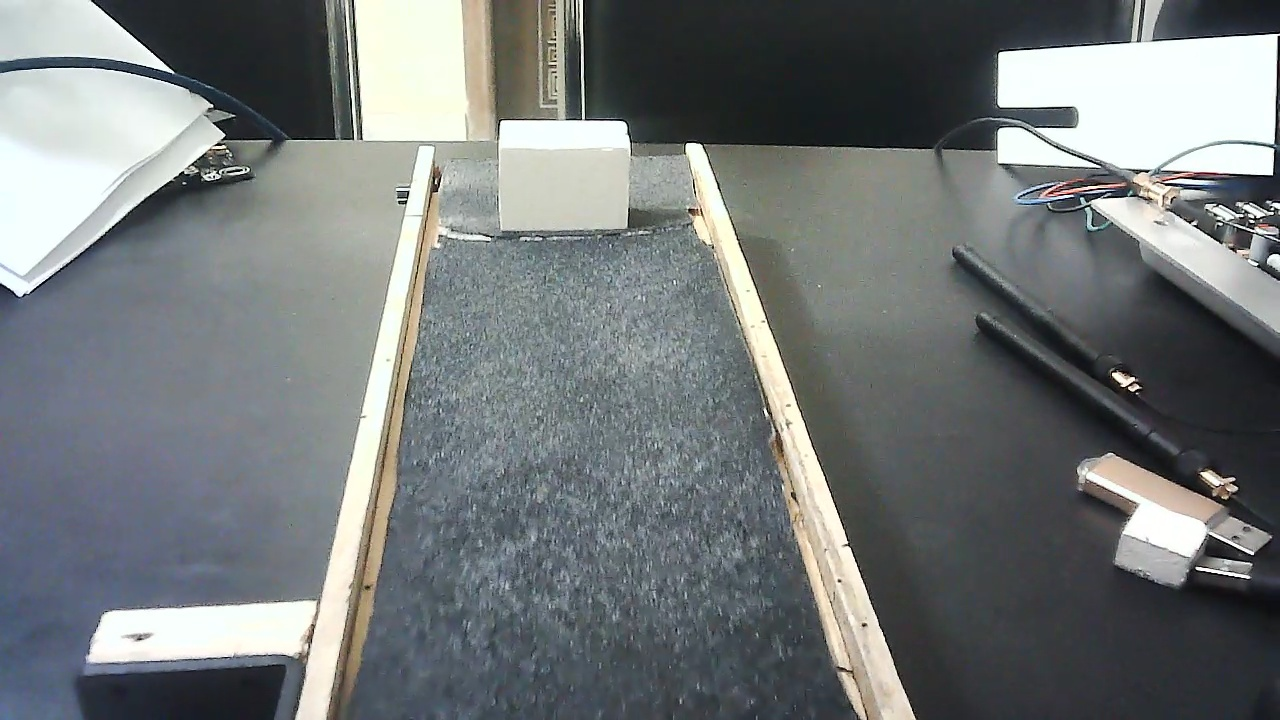BIG: (500, 109, 631, 240)
